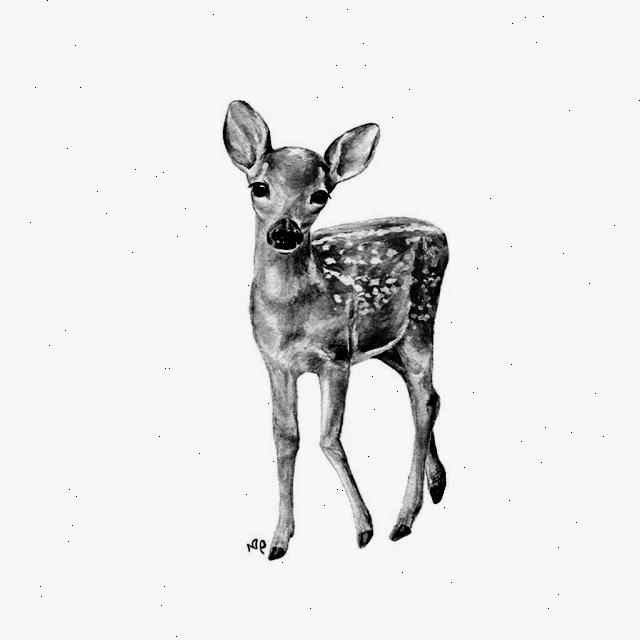deer: (192, 100, 441, 322)
